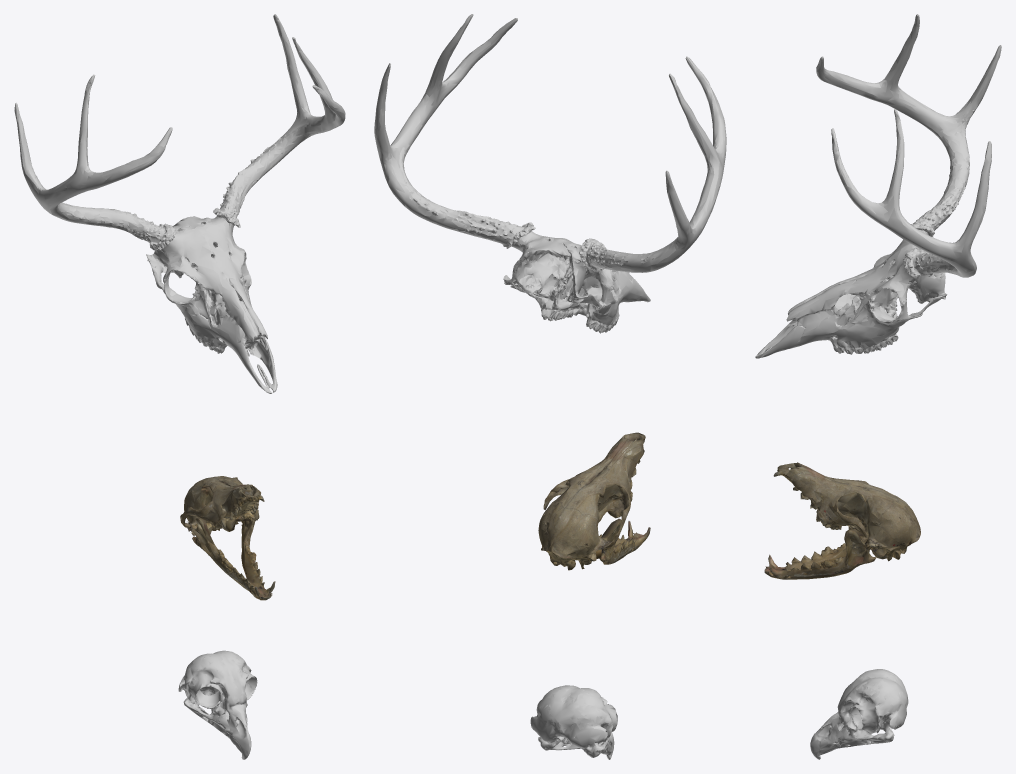
The model's file is Sans_Mk1.fbx.
The picture shows the model from 3 angles, left to right: view 1: azimuth 30°, elevation 25°; view 2: azimuth 150°, elevation 25°; view 3: azimuth 270°, elevation 25°; orthographic projection. The views are drawn at different scales.
Visible parts, largest first — view 1: deer_skull_with_antlers_no_lot_number, grey_fox_21_85, Barred_Owl; view 2: deer_skull_with_antlers_no_lot_number, grey_fox_21_85, Barred_Owl; view 3: deer_skull_with_antlers_no_lot_number, grey_fox_21_85, Barred_Owl.
Boxes of the visible parts, bbox=[...] form: deer_skull_with_antlers_no_lot_number: bbox=[14, 14, 345, 393]; grey_fox_21_85: bbox=[180, 476, 275, 600]; Barred_Owl: bbox=[178, 650, 257, 759]; deer_skull_with_antlers_no_lot_number: bbox=[374, 14, 726, 333]; grey_fox_21_85: bbox=[538, 432, 650, 570]; Barred_Owl: bbox=[530, 685, 617, 759]; deer_skull_with_antlers_no_lot_number: bbox=[755, 14, 1001, 358]; grey_fox_21_85: bbox=[764, 462, 920, 579]; Barred_Owl: bbox=[810, 669, 908, 759].
Bounding box in the file's own units: 115 × 263 × 84.62.
